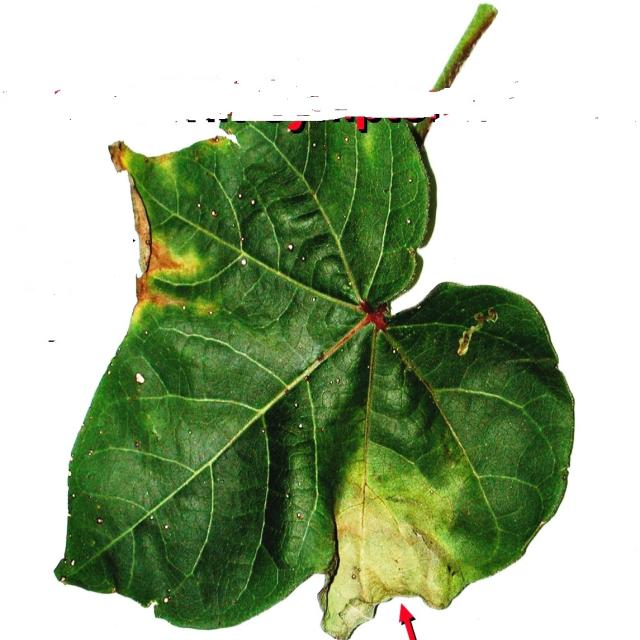Fusarium Wilt: (92, 118, 540, 586)
